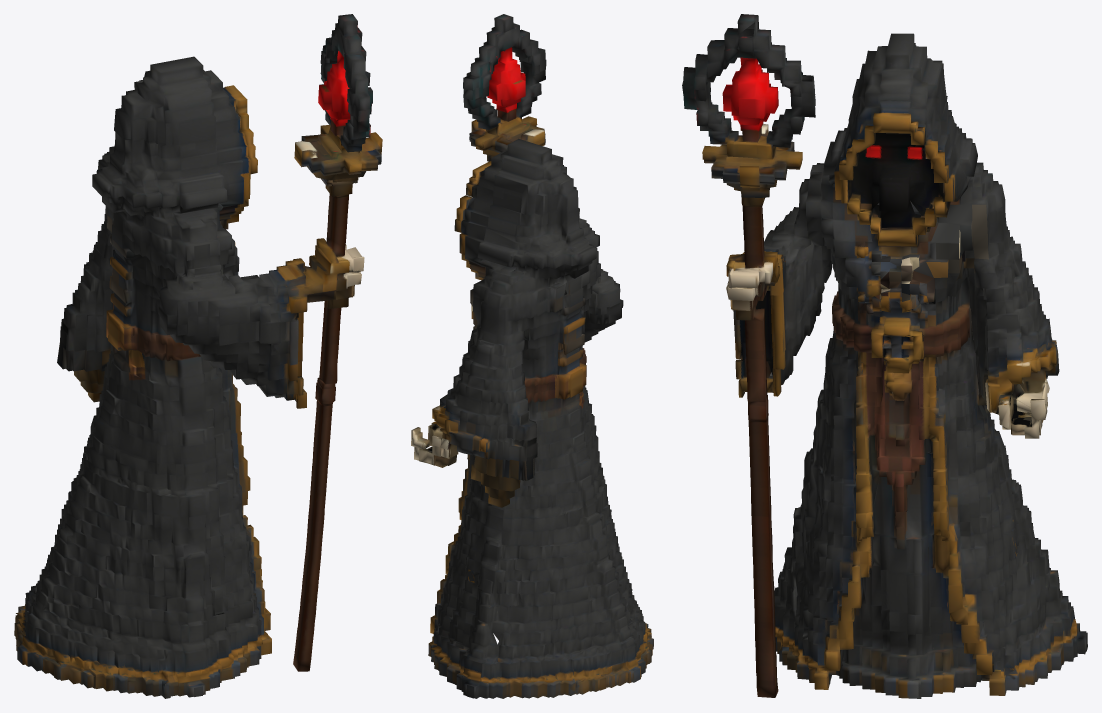
Rendered from cultista.fbx.
3 views of the same model, side by side, from view 1: azimuth 30°, elevation 25°; view 2: azimuth 150°, elevation 25°; view 3: azimuth 270°, elevation 25° (orthographic). The views are drawn at different scales.
Parts seen in each view (by area): view 1: tripo_8338d99b_29e7_4c76_9f40_65515b0540d0; view 2: tripo_8338d99b_29e7_4c76_9f40_65515b0540d0; view 3: tripo_8338d99b_29e7_4c76_9f40_65515b0540d0.
Boxes of the visible parts, bbox=[...] form: tripo_8338d99b_29e7_4c76_9f40_65515b0540d0: bbox=[14, 14, 382, 698]; tripo_8338d99b_29e7_4c76_9f40_65515b0540d0: bbox=[411, 14, 653, 698]; tripo_8338d99b_29e7_4c76_9f40_65515b0540d0: bbox=[682, 14, 1087, 698].
Bounding box in the file's own units: 0.4429 × 0.9995 × 0.5269.
Materials: 1 (1 with a texture image).
